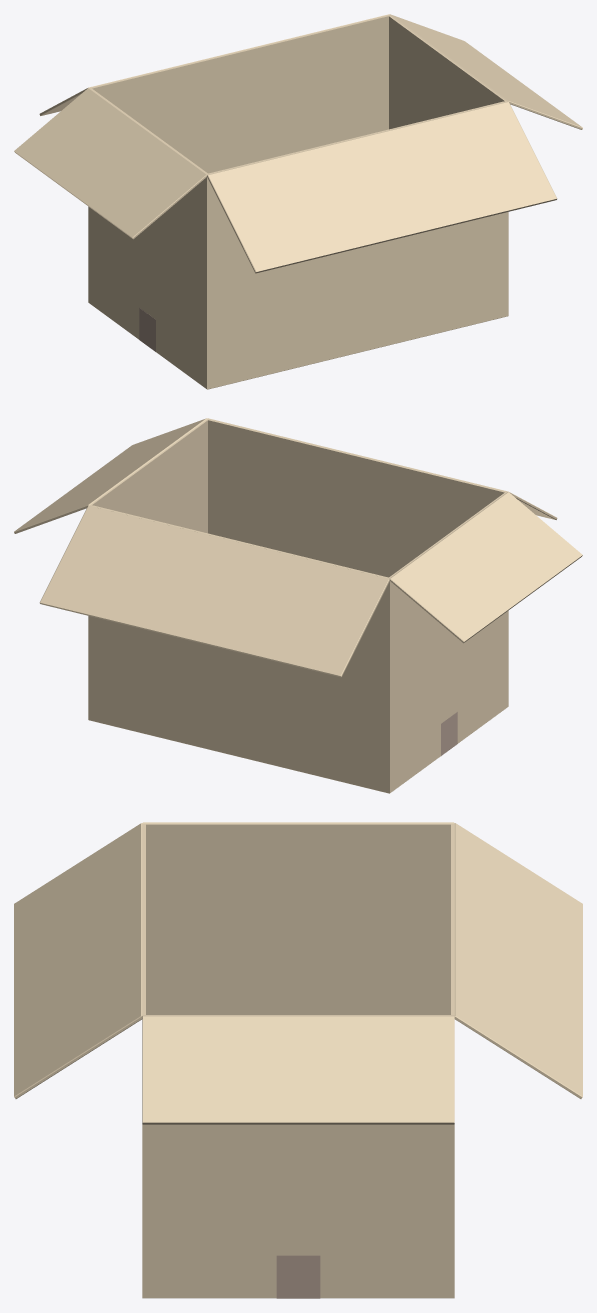
File: 066_ダンボール大開.glb
3 views of the same model, one above another, from view 1: azimuth 30°, elevation 25°; view 2: azimuth 150°, elevation 25°; view 3: azimuth 270°, elevation 25° (orthographic). The views are drawn at different scales.
Visible parts, largest first — view 1: Body.001; view 2: Body.001; view 3: Body.001.
Part boxes in pixels (x1,y1,x2,y2): Body.001: (14,14,582,389); Body.001: (14,418,582,793); Body.001: (14,822,582,1298).
Bounding box in the file's own units: 0.9415 × 0.4299 × 0.7835.
